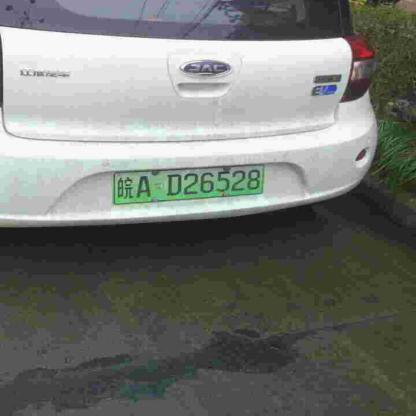lp: (112, 164, 264, 205)
